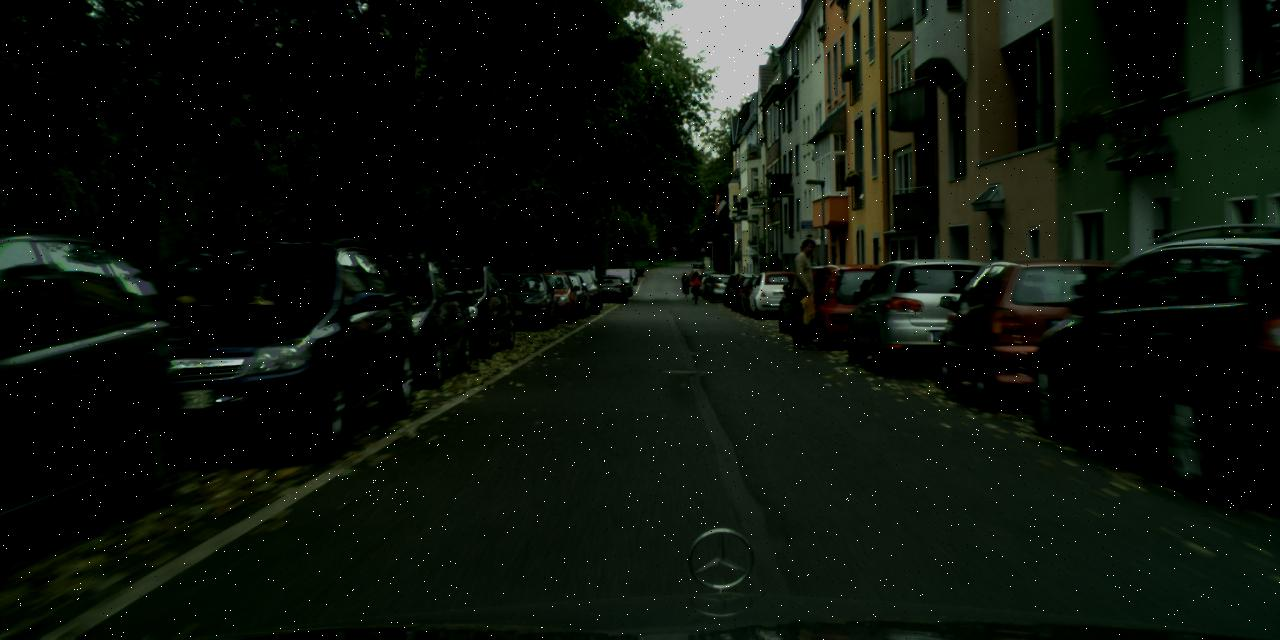ped: (782, 238, 828, 348), (691, 270, 700, 294), (681, 272, 690, 294)
